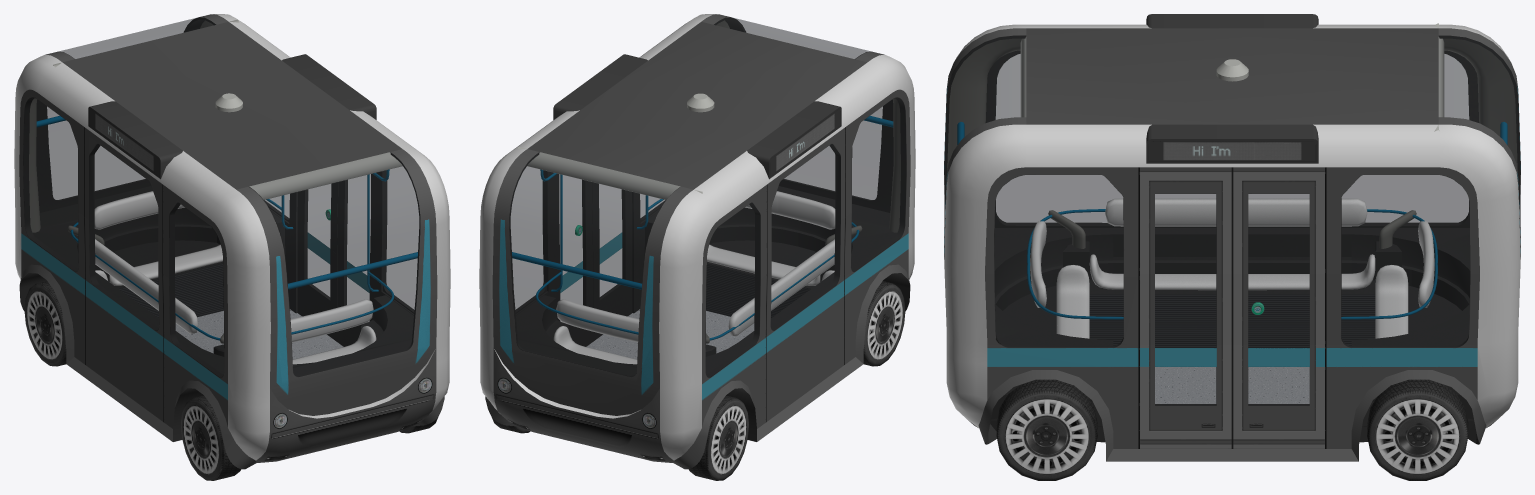
Rendered from Electric Bus Lowpoly.FBX.
3 views of the same model, side by side, from view 1: azimuth 30°, elevation 25°; view 2: azimuth 150°, elevation 25°; view 3: azimuth 270°, elevation 25° (orthographic). The views are drawn at different scales.
Parts seen in each view (by area): view 1: Electric Bus Body, Electric Bus Interior, Door_01, Door_02, Wheel_1, Wheel_4; view 2: Electric Bus Body, Electric Bus Interior, Door_02, Door_01, Wheel_4, Wheel_1; view 3: Electric Bus Body, Electric Bus Interior, Door_02, Door_01, Wheel_2, Wheel_3.
Part boxes in pixels (box(x1,y1,x2,y2)): Electric Bus Body: box(14, 14, 450, 469); Electric Bus Interior: box(23, 17, 420, 377); Door_01: box(297, 182, 338, 341); Door_02: box(337, 174, 375, 346); Wheel_1: box(181, 395, 240, 480); Wheel_4: box(24, 281, 66, 366); Electric Bus Body: box(479, 14, 915, 469); Electric Bus Interior: box(509, 17, 906, 377); Door_02: box(592, 182, 632, 341); Door_01: box(554, 174, 592, 346); Wheel_4: box(689, 395, 748, 480); Wheel_1: box(863, 281, 905, 366); Electric Bus Body: box(944, 14, 1520, 461); Electric Bus Interior: box(944, 23, 1520, 403); Door_02: box(1138, 172, 1232, 448); Door_01: box(1232, 172, 1325, 448); Wheel_2: box(996, 379, 1097, 480); Wheel_3: box(1367, 379, 1468, 480).
Size of the model in its own units: 2.05 by 2.59 by 3.82.
